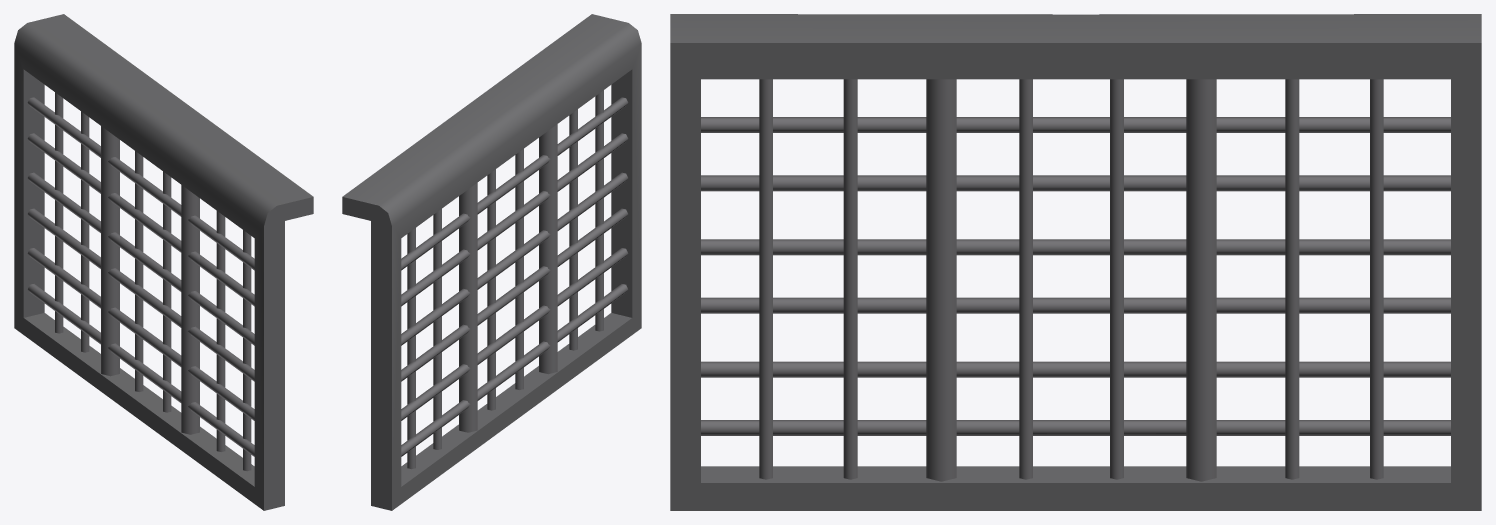
File: SM_TimeoutCage_v03_CageDoor.obj
3 renders of one model, left to right at view 1: azimuth 30°, elevation 25°; view 2: azimuth 150°, elevation 25°; view 3: azimuth 270°, elevation 25°, orthographic. The views are drawn at different scales.
Visible parts, largest first — view 1: SM_TimeoutCage_v03_CageDoor_Mat_SwatchOverlay_PolygonTown_01_Ins; view 2: SM_TimeoutCage_v03_CageDoor_Mat_SwatchOverlay_PolygonTown_01_Ins; view 3: SM_TimeoutCage_v03_CageDoor_Mat_SwatchOverlay_PolygonTown_01_Ins.
Boxes of the visible parts, x1=… form: SM_TimeoutCage_v03_CageDoor_Mat_SwatchOverlay_PolygonTown_01_Ins: x1=14, y1=14, x2=313, y2=510; SM_TimeoutCage_v03_CageDoor_Mat_SwatchOverlay_PolygonTown_01_Ins: x1=342, y1=14, x2=641, y2=510; SM_TimeoutCage_v03_CageDoor_Mat_SwatchOverlay_PolygonTown_01_Ins: x1=670, y1=14, x2=1481, y2=510.
Size of the model in its own units: 0.3452 by 2.01 by 3.01.
1 material, 1 textured.
